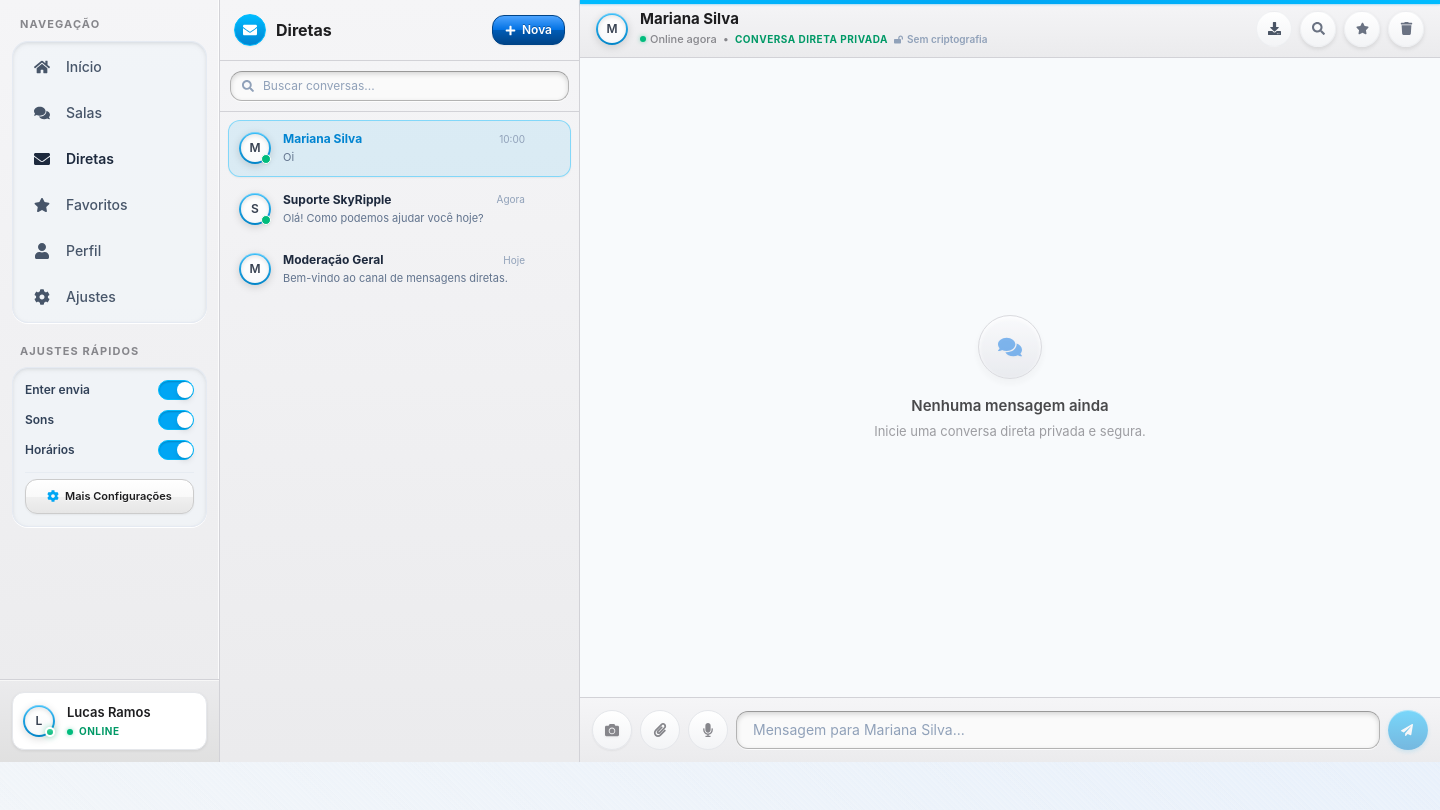
Directs com criptografia ponta a ponta › o servidor recebe apenas o envelope cifrado (socket e REST)
The image size is (1440, 810).
Click the heading "Mariana Silva" next to "10:00" at (323, 139), box [283,131,362,147]
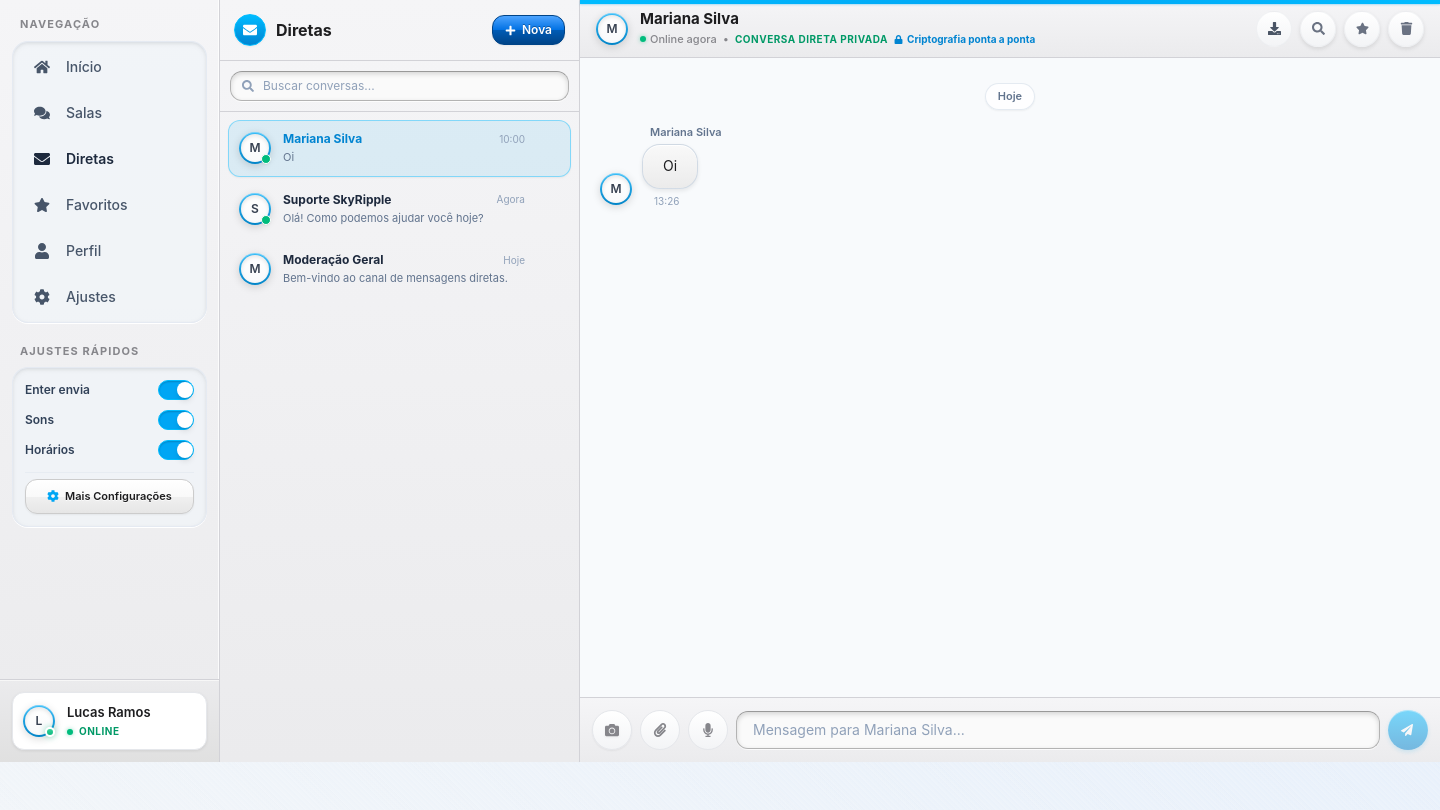
Expected: the element with test id "e2ee-badge" is shown, [894,32,1035,46]
Type "Segredo do Lucas" into the field with placeholder "Mensagem para Mariana Silva..." at (1058, 730), box [736,711,1380,749]
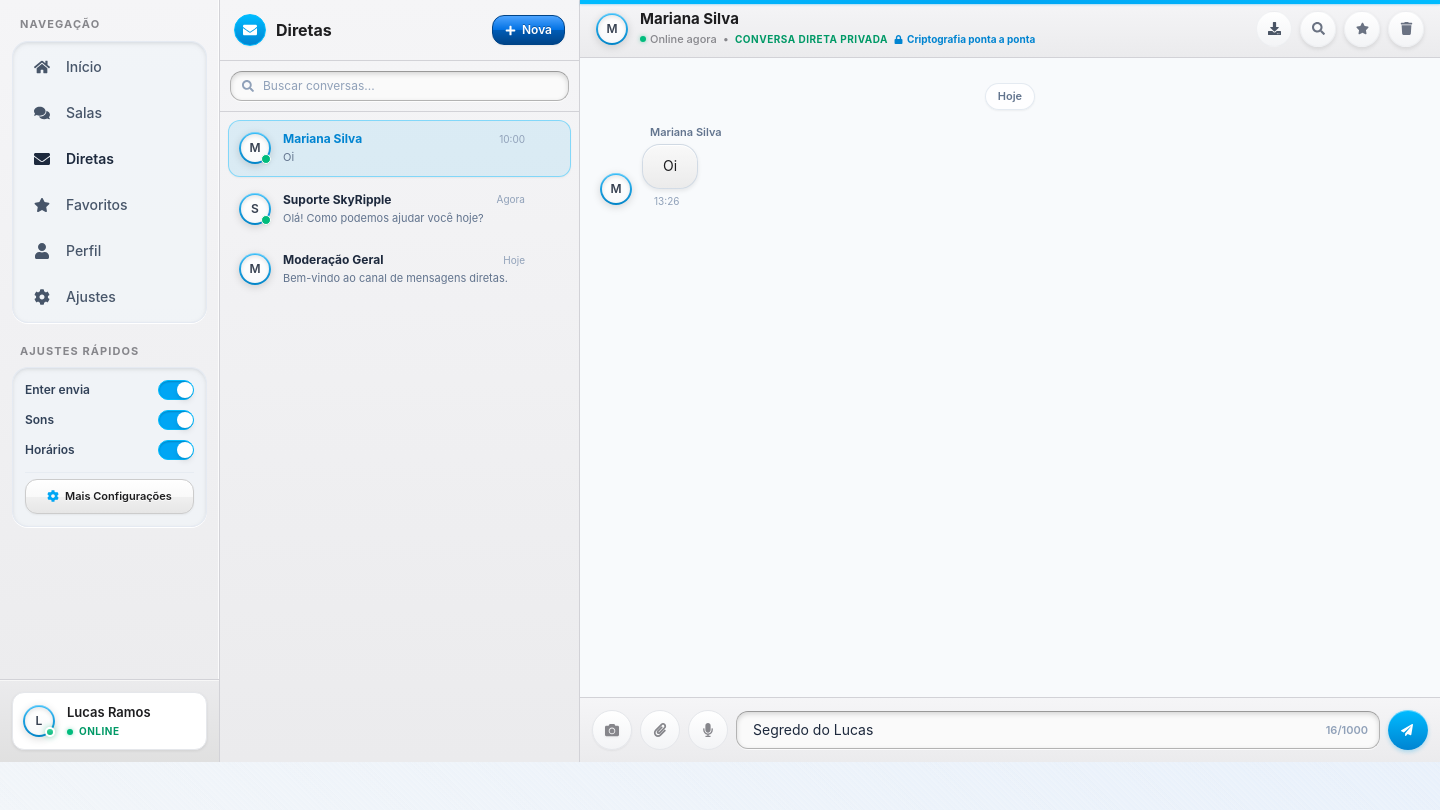
Click the button named "Enviar mensagem" at (1408, 730), box [1388,710,1428,750]
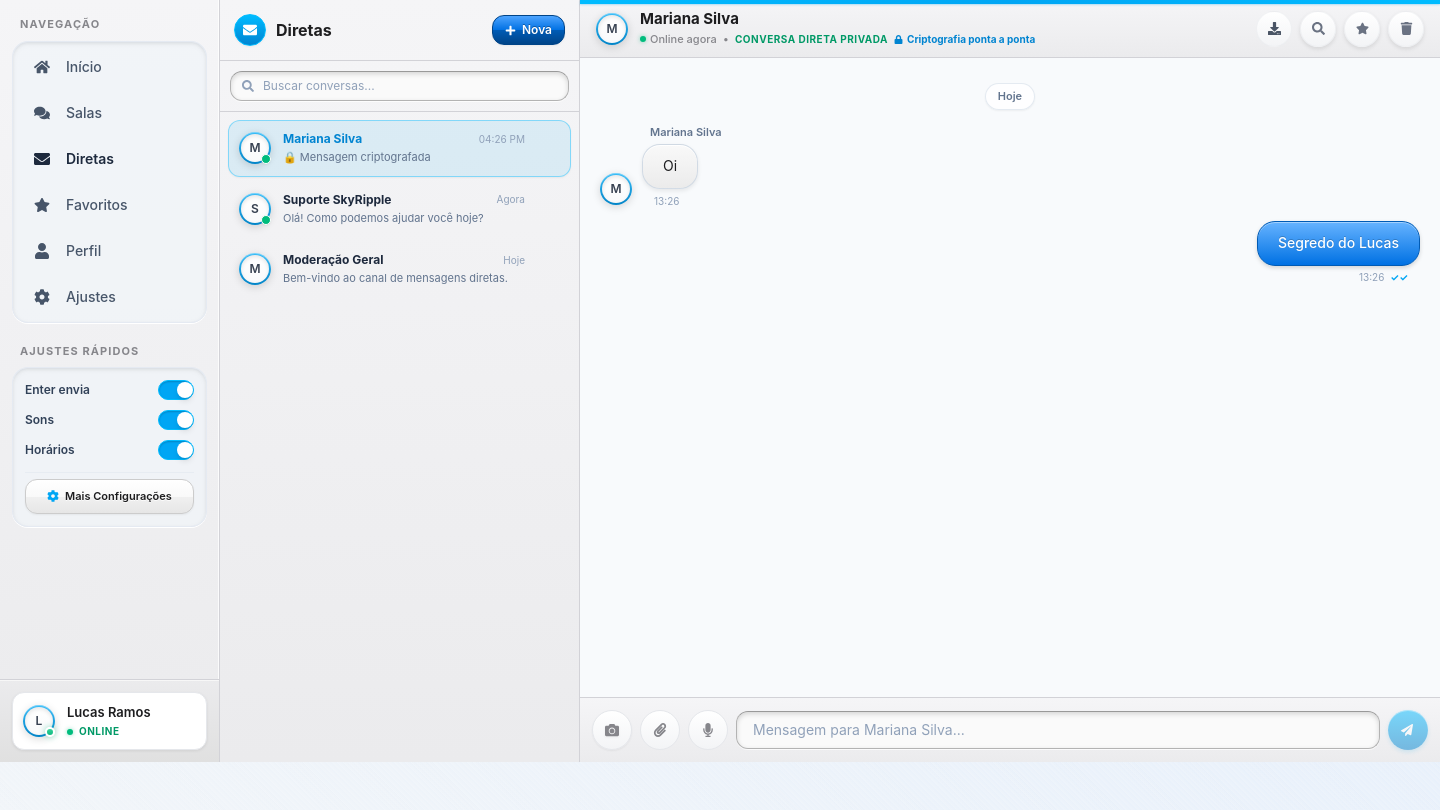
Expected: the text "Segredo do Lucas" is shown, [1278,232,1399,255]
